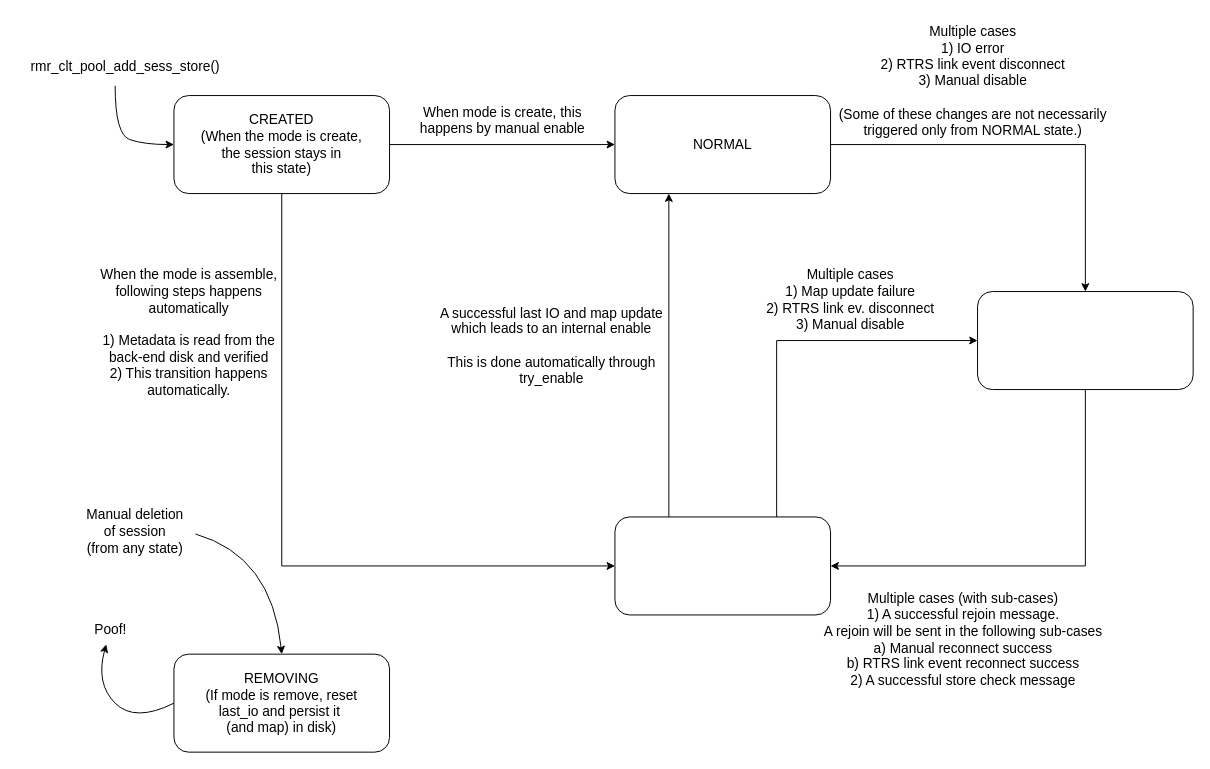
The diagram is 1210 pixels wide and 769 high, and some of its shapes have lost their labels. Here are the shapes that lost their labels. From the top down, the centre of each, then its label:
At (1085,340): "FAILED".
At (722,565): "RECONNECTING".
